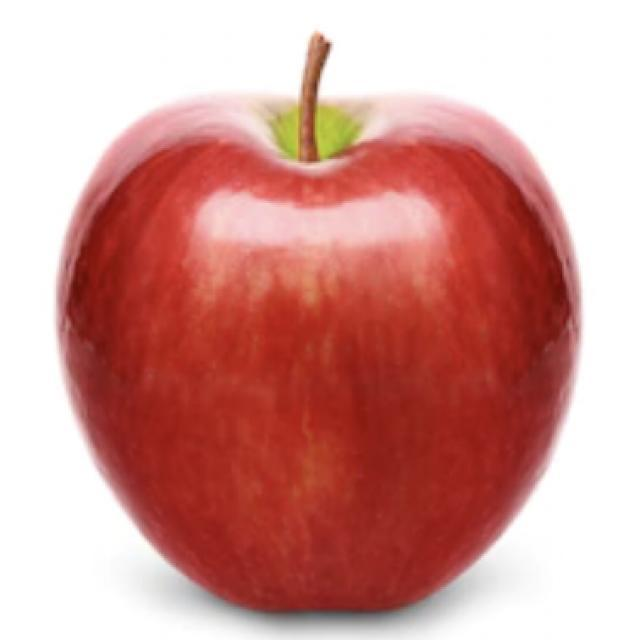Fresh Apple: (69, 100, 554, 593)
